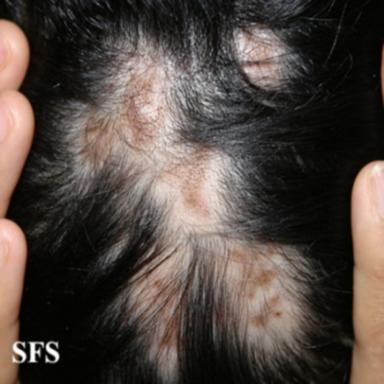Lupus-Erythematosus-Chronicus-Discoides: (50, 27, 314, 381), (235, 23, 300, 90)
